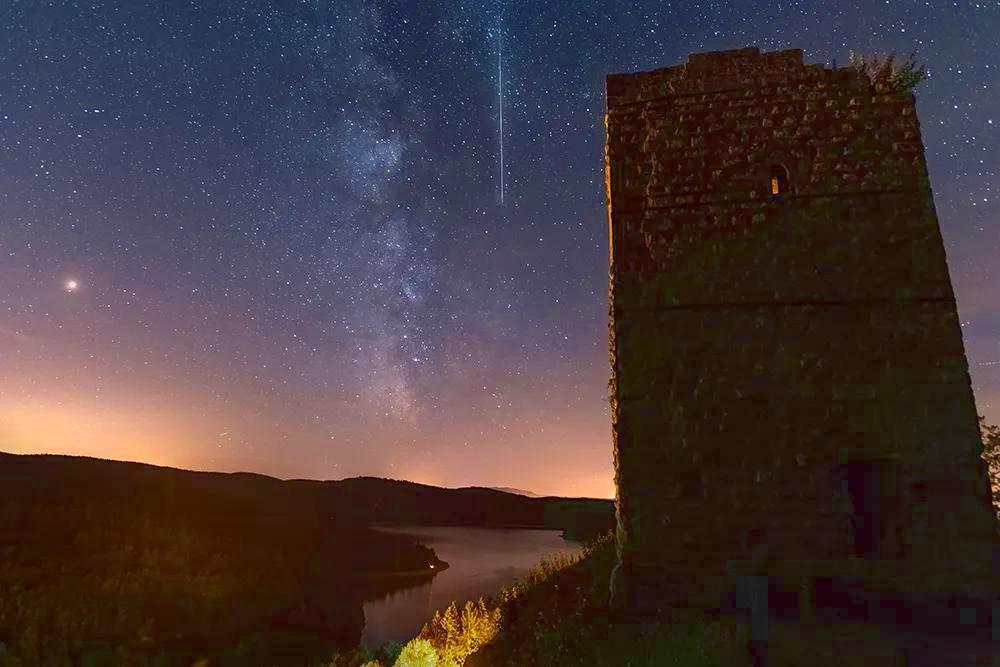meteorite: (475, 11, 522, 210)
